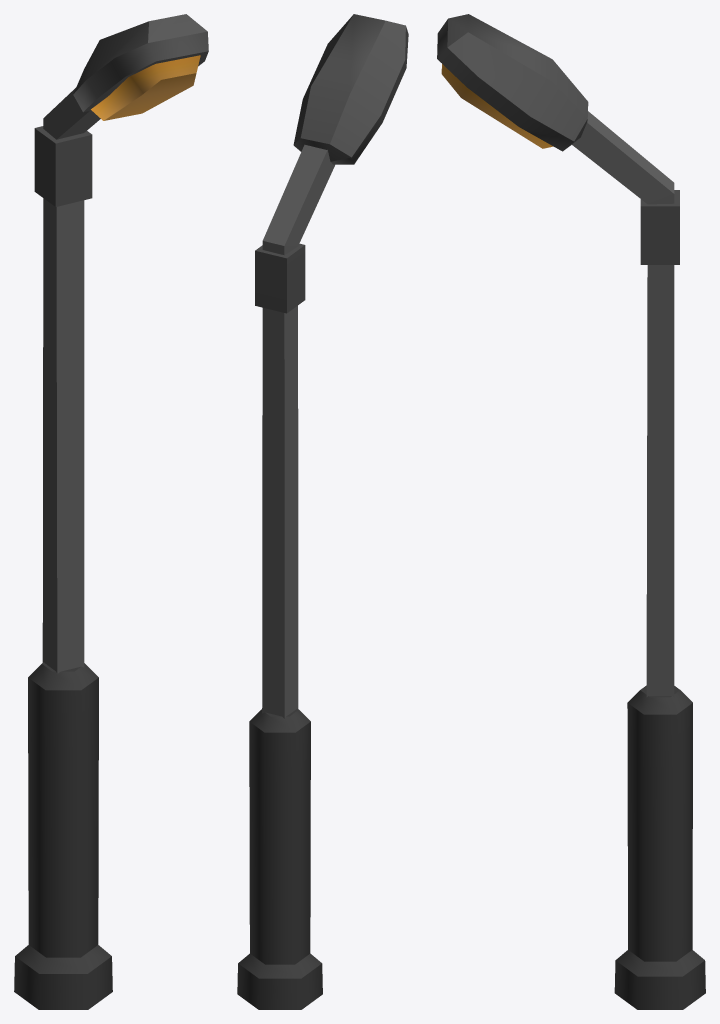
Rendered from Lamp_Court_1_B.fbx.
3 views of the same model, side by side, from view 1: azimuth 30°, elevation 25°; view 2: azimuth 150°, elevation 25°; view 3: azimuth 270°, elevation 25° (orthographic). The views are drawn at different scales.
Parts seen in each view (by area): view 1: Lamp_Court_1_B; view 2: Lamp_Court_1_B; view 3: Lamp_Court_1_B.
Boxes of the visible parts, <box> form: Lamp_Court_1_B: <box>14,14,208,1009</box>; Lamp_Court_1_B: <box>237,14,408,1009</box>; Lamp_Court_1_B: <box>437,14,705,1009</box>.
Size of the model in its own units: 58.67 by 648 by 163.
